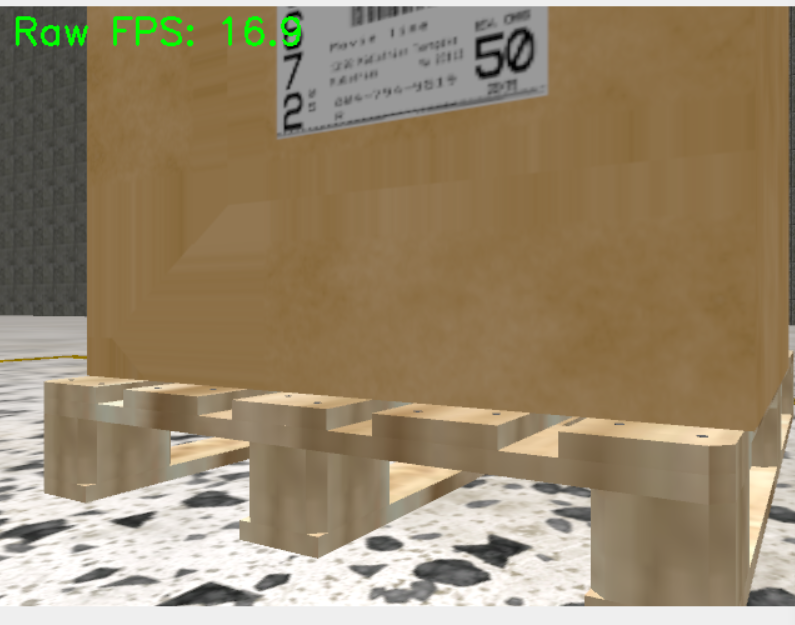barcode: (274, 7, 550, 139)
